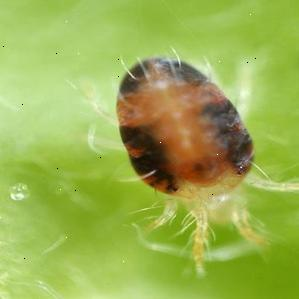spider mite: (59, 18, 298, 285)
